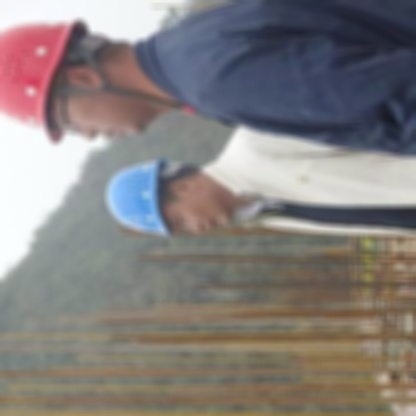blue: (103, 155, 178, 247)
red: (0, 14, 88, 150)
